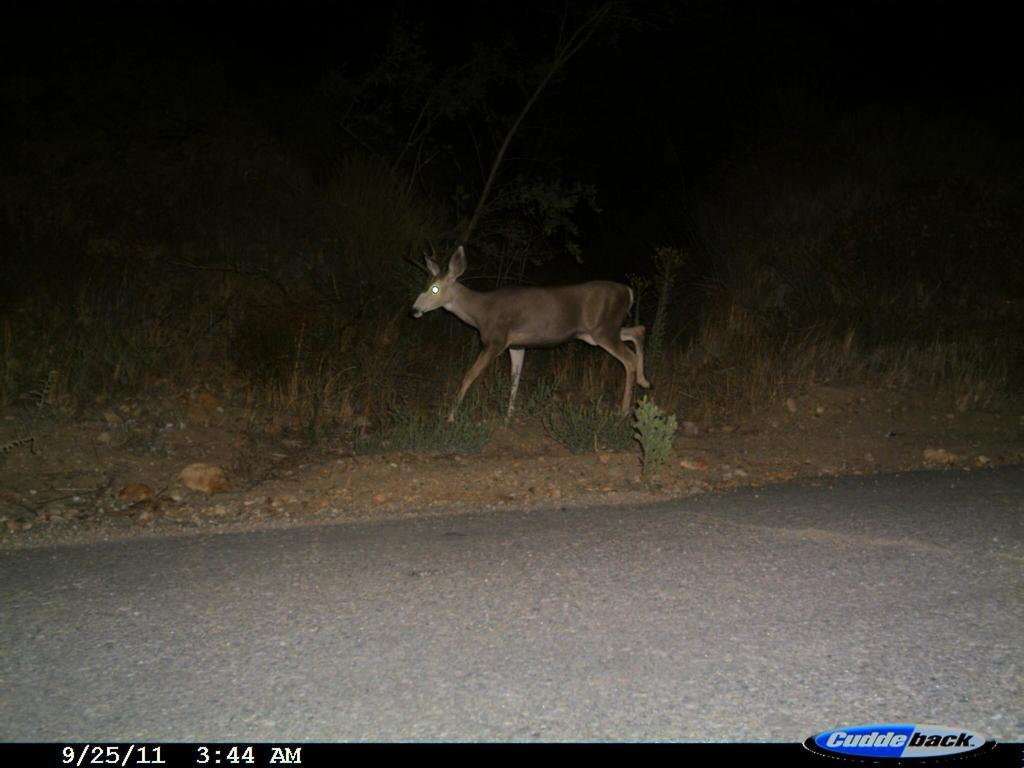deer: (404, 235, 662, 434)
